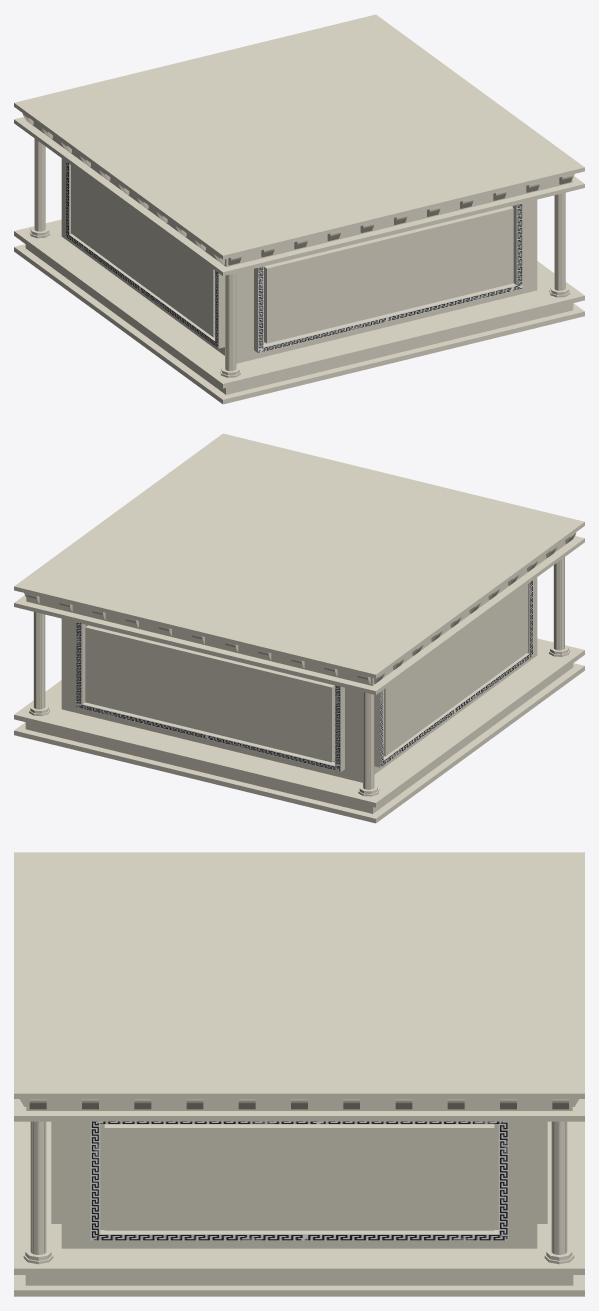
File: Tablero.fbx
The picture shows the model from 3 angles, top to bottom: view 1: azimuth 30°, elevation 25°; view 2: azimuth 150°, elevation 25°; view 3: azimuth 270°, elevation 25°; orthographic projection. The views are drawn at different scales.
Parts seen in each view (by area): view 1: Tablero; view 2: Tablero; view 3: Tablero.
Boxes of the visible parts, box(x1,y1,x2,y2) form: Tablero: box(14, 14, 584, 404); Tablero: box(14, 433, 584, 823); Tablero: box(14, 852, 584, 1296).
Size of the model in its own units: 561 by 220 by 561.
